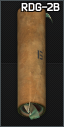RDG-2B smoke grenade: (0, 0, 64, 127)
